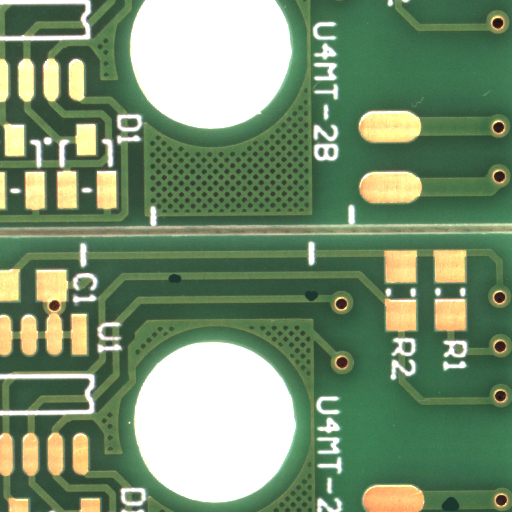Mouse_bite: (451, 504, 473, 512), (311, 295, 325, 306), (174, 278, 188, 288)
